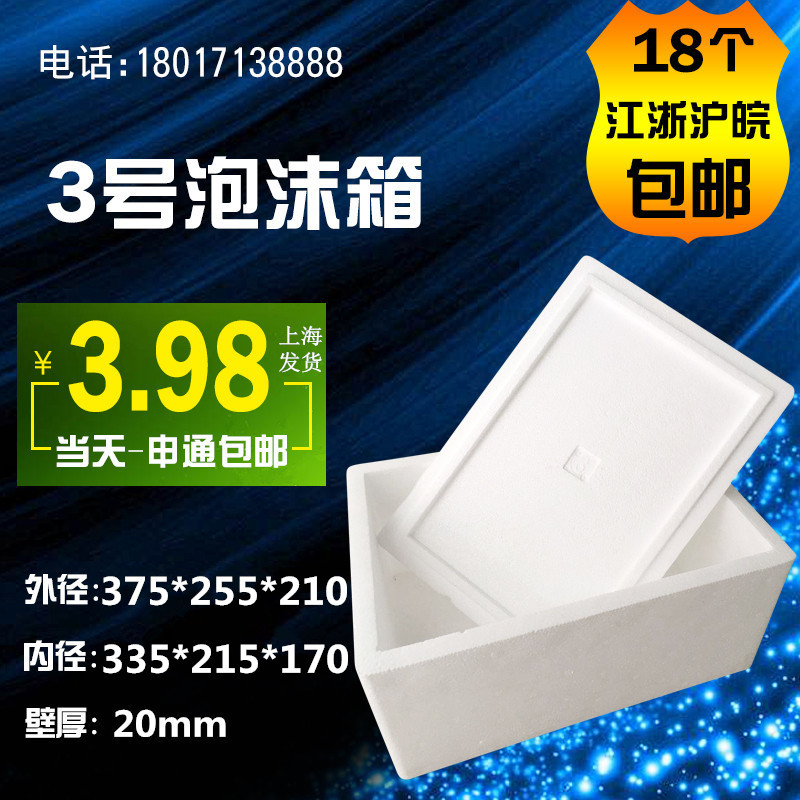泡沫箱: (348, 258, 793, 776)
